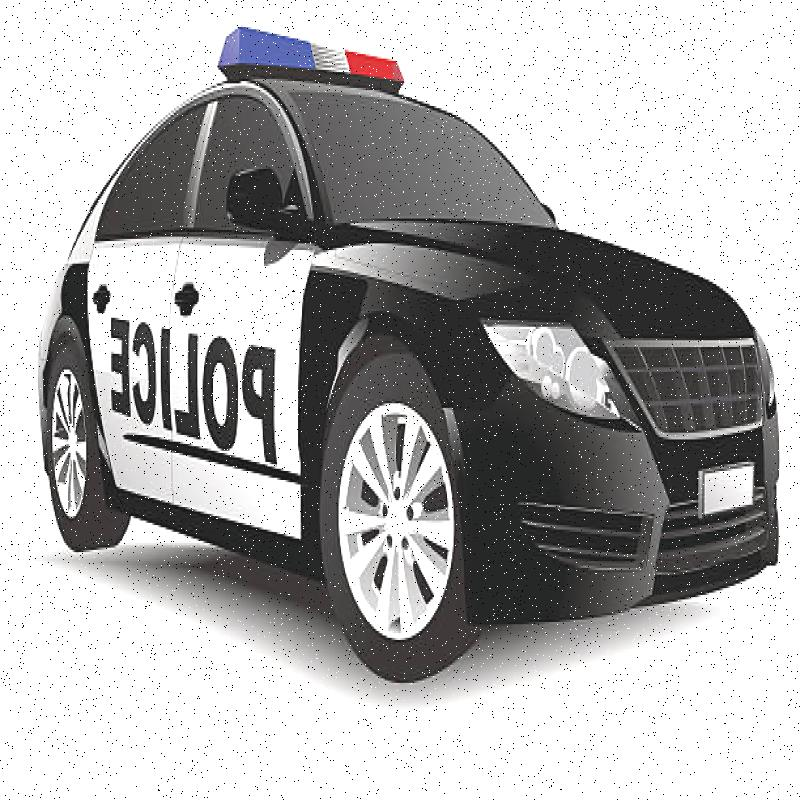AmbulanceSiren: (203, 21, 414, 111)
car: (29, 90, 788, 706)
